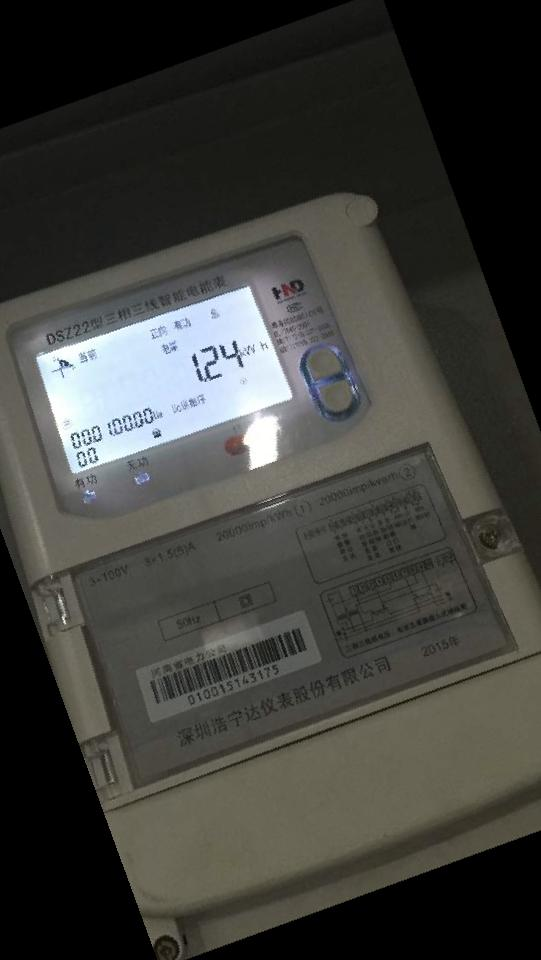digital: (1, 193, 538, 910)
